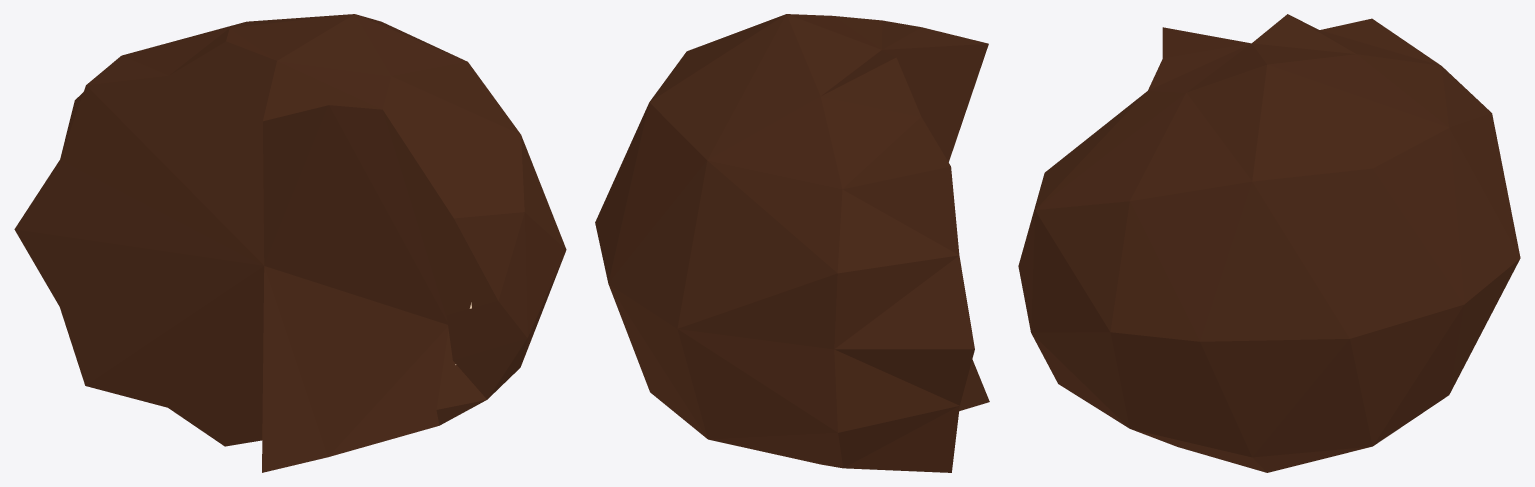
Rendered from hair24.glb.
The picture shows the model from 3 angles, left to right: view 1: azimuth 30°, elevation 25°; view 2: azimuth 150°, elevation 25°; view 3: azimuth 270°, elevation 25°; orthographic projection. The views are drawn at different scales.
Visible parts, largest first — view 1: tomodachi-2026-03-13-22-18-35-776; view 2: tomodachi-2026-03-13-22-18-35-776; view 3: tomodachi-2026-03-13-22-18-35-776.
Boxes of the visible parts, x1,y1,x2,y2 form: tomodachi-2026-03-13-22-18-35-776: (14,14,566,472); tomodachi-2026-03-13-22-18-35-776: (595,14,989,472); tomodachi-2026-03-13-22-18-35-776: (1018,14,1520,472).
Bounding box in the file's own units: 1.24 × 1.2 × 1.33.
Materials: 2 (2 with a texture image).
